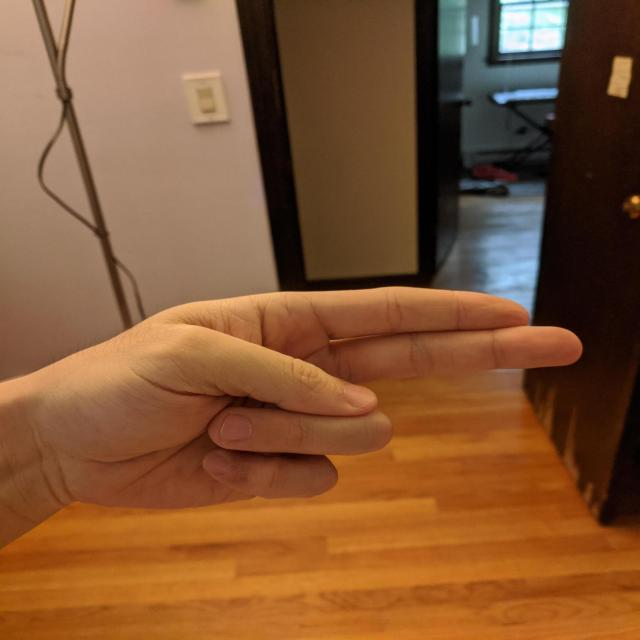H: (54, 280, 588, 517)
